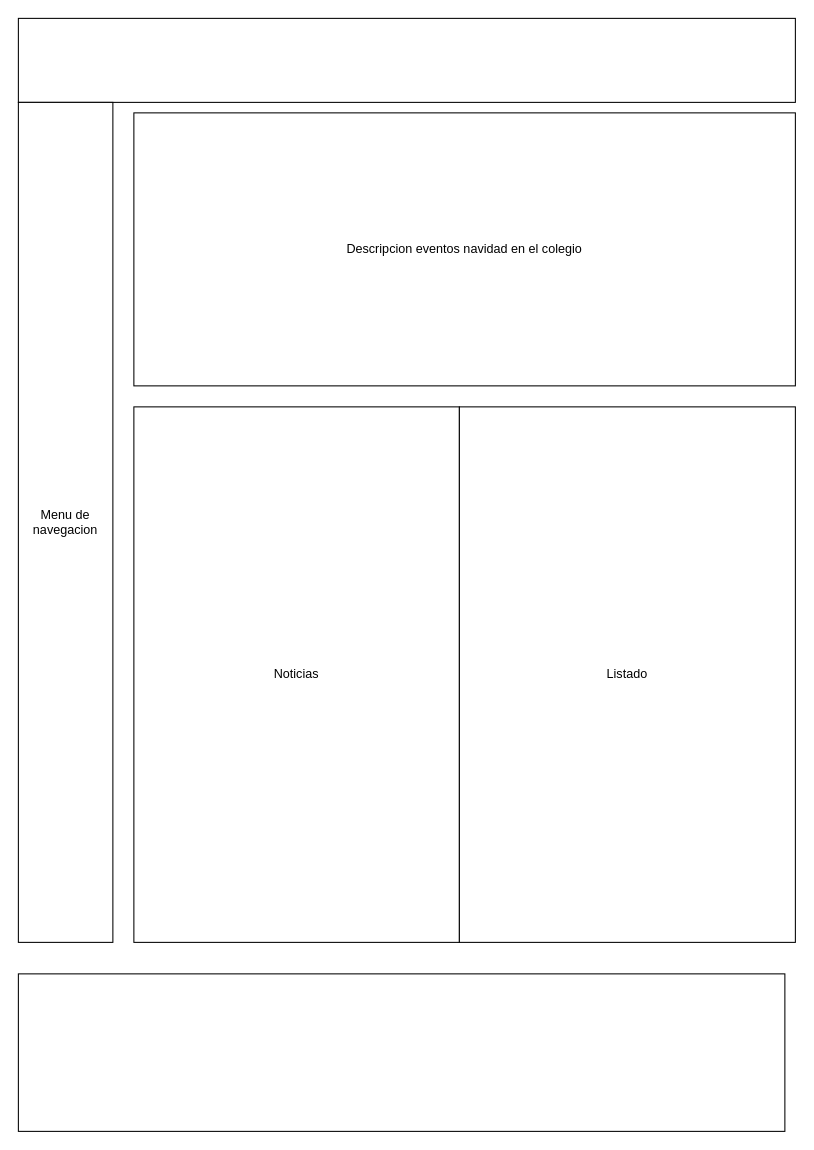
Image size: 814x1150. Some labels were removed from this diagram. Each missing label, with the centre of its shape:
"Cabecera" belongs at (x=406, y=59).
"Pie de pagina" belongs at (x=401, y=1052).
